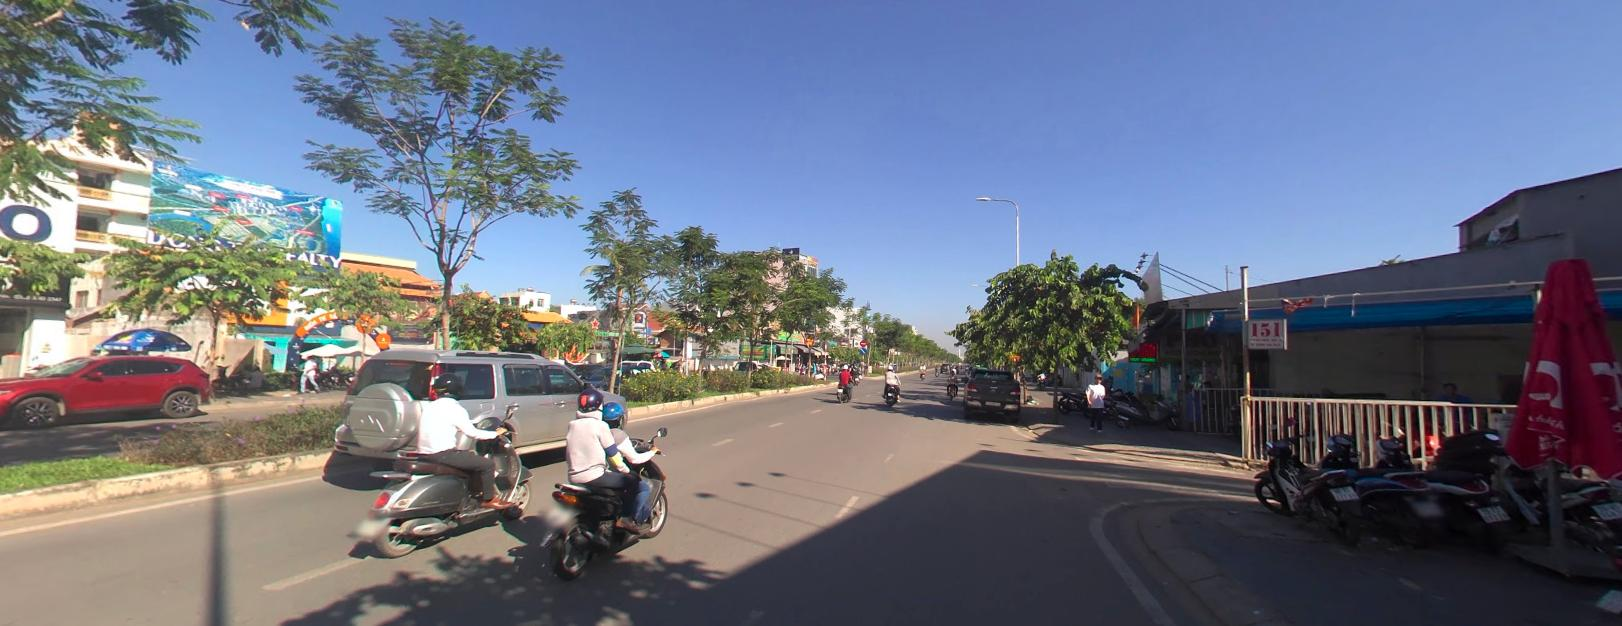Cam nguoc chieu: (859, 338, 865, 345)
Hieu lenh: (860, 346, 866, 352)
